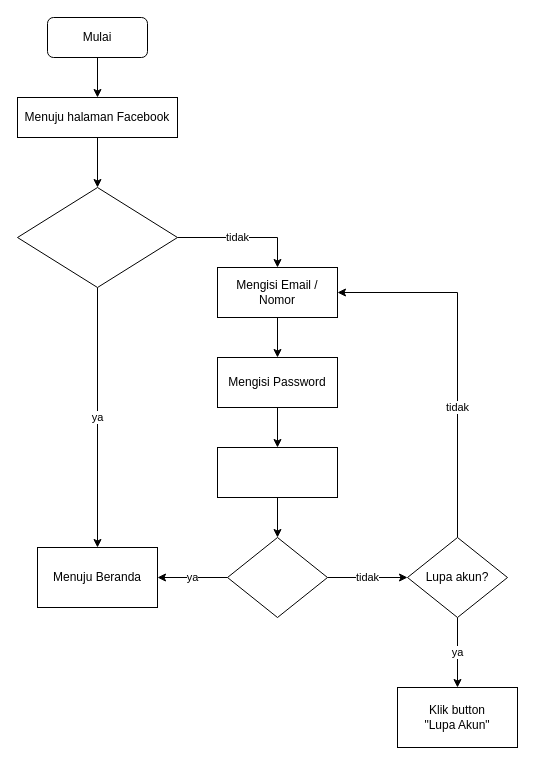
The diagram is 535 pixels wide and 765 high, and some of its shapes have lost their labels. The shapes that lost their labels are listed below. From the top down, each one's box as (x1, y1, x2, y2) in pixels, then its label:
(16, 186, 178, 288): Apakah sudah Login?
(216, 446, 338, 498): Klik Button "Login"
(226, 536, 328, 618): Berhasil?
